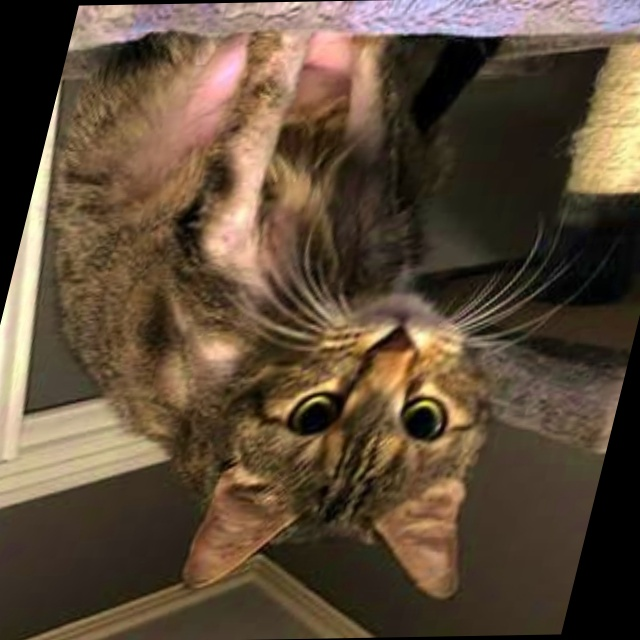hairloss: (207, 92, 292, 264), (160, 39, 240, 177), (326, 37, 410, 147)
